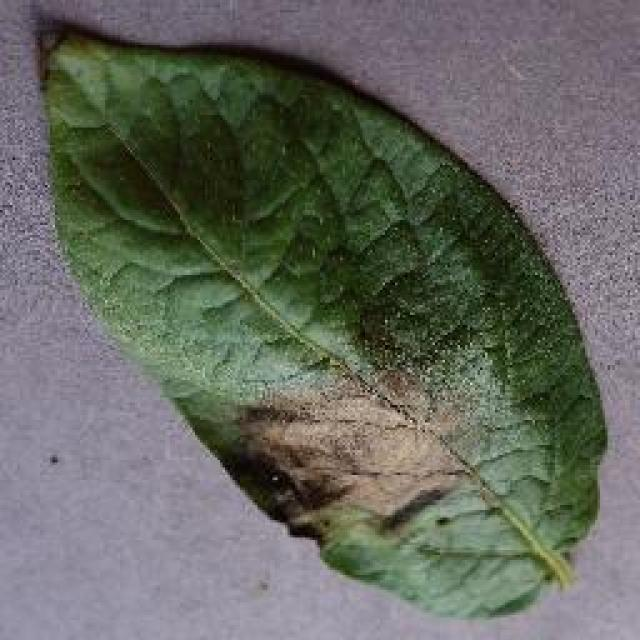late_blight: (32, 25, 612, 623)
